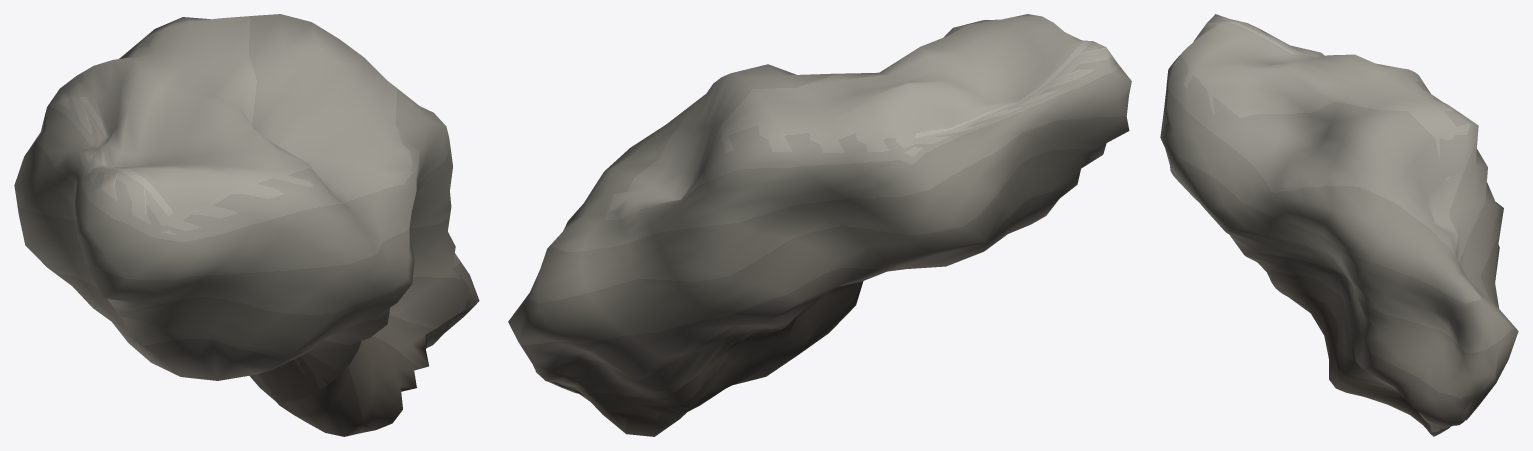
The model's file is DL_Obj_Level5_MineRock3.fbx.
The picture shows the model from 3 angles, left to right: view 1: azimuth 30°, elevation 25°; view 2: azimuth 150°, elevation 25°; view 3: azimuth 270°, elevation 25°; orthographic projection. The views are drawn at different scales.
Visible parts, largest first — view 1: Level5_MineRock03; view 2: Level5_MineRock03; view 3: Level5_MineRock03.
Boxes of the visible parts, <box> form: Level5_MineRock03: <box>14,14,479,436</box>; Level5_MineRock03: <box>508,14,1131,436</box>; Level5_MineRock03: <box>1160,14,1518,436</box>.
Size of the model in its own units: 260 by 200 by 224.
